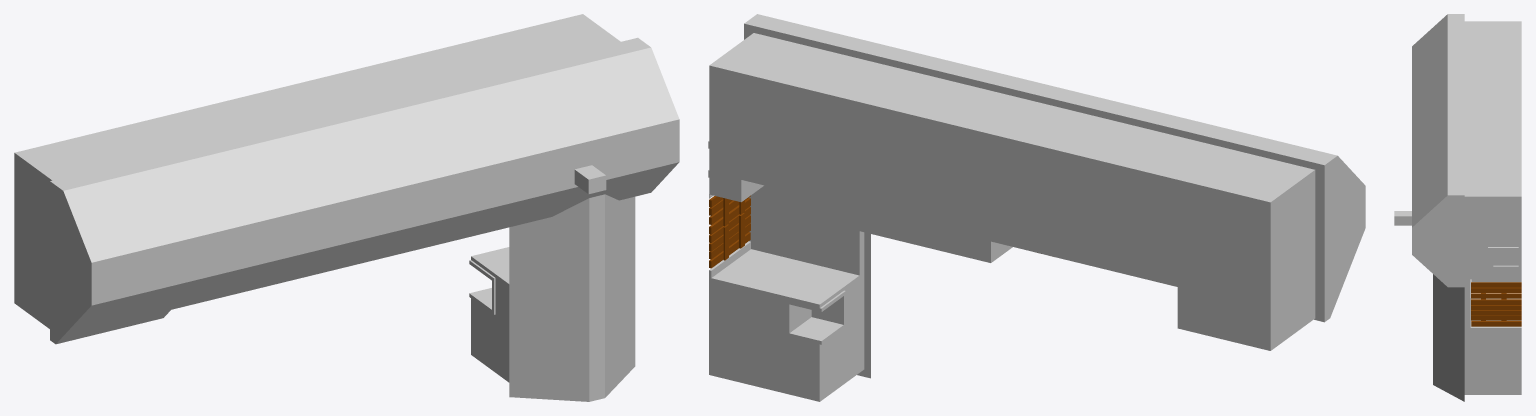
File: Pisarek Zagroda Tatarska.obj
3 renders of one model, left to right at view 1: azimuth 30°, elevation 25°; view 2: azimuth 150°, elevation 25°; view 3: azimuth 270°, elevation 25°, orthographic. The views are drawn at different scales.
Parts seen in each view (by area): view 1: Zagroda Tatarska\Ciało stałe (6); view 2: Zagroda Tatarska\Ciało stałe (6), Zagroda Tatarska\Ciało stałe (4), Zagroda Tatarska\Ciało stałe (5); view 3: Zagroda Tatarska\Ciało stałe (6), Zagroda Tatarska\Ciało stałe (5), Zagroda Tatarska\Ciało stałe (4).
Boxes of the visible parts, x1,y1,x2,y2 form: Zagroda Tatarska\Ciało stałe (6): [14, 14, 679, 401]; Zagroda Tatarska\Ciało stałe (6): [708, 14, 1365, 401]; Zagroda Tatarska\Ciało stałe (4): [709, 206, 750, 268]; Zagroda Tatarska\Ciało stałe (5): [709, 195, 750, 234]; Zagroda Tatarska\Ciało stałe (6): [1394, 14, 1521, 401]; Zagroda Tatarska\Ciało stałe (5): [1471, 282, 1521, 304]; Zagroda Tatarska\Ciało stałe (4): [1471, 305, 1521, 326].
Size of the model in its own units: 84 by 44.79 by 24.94.
